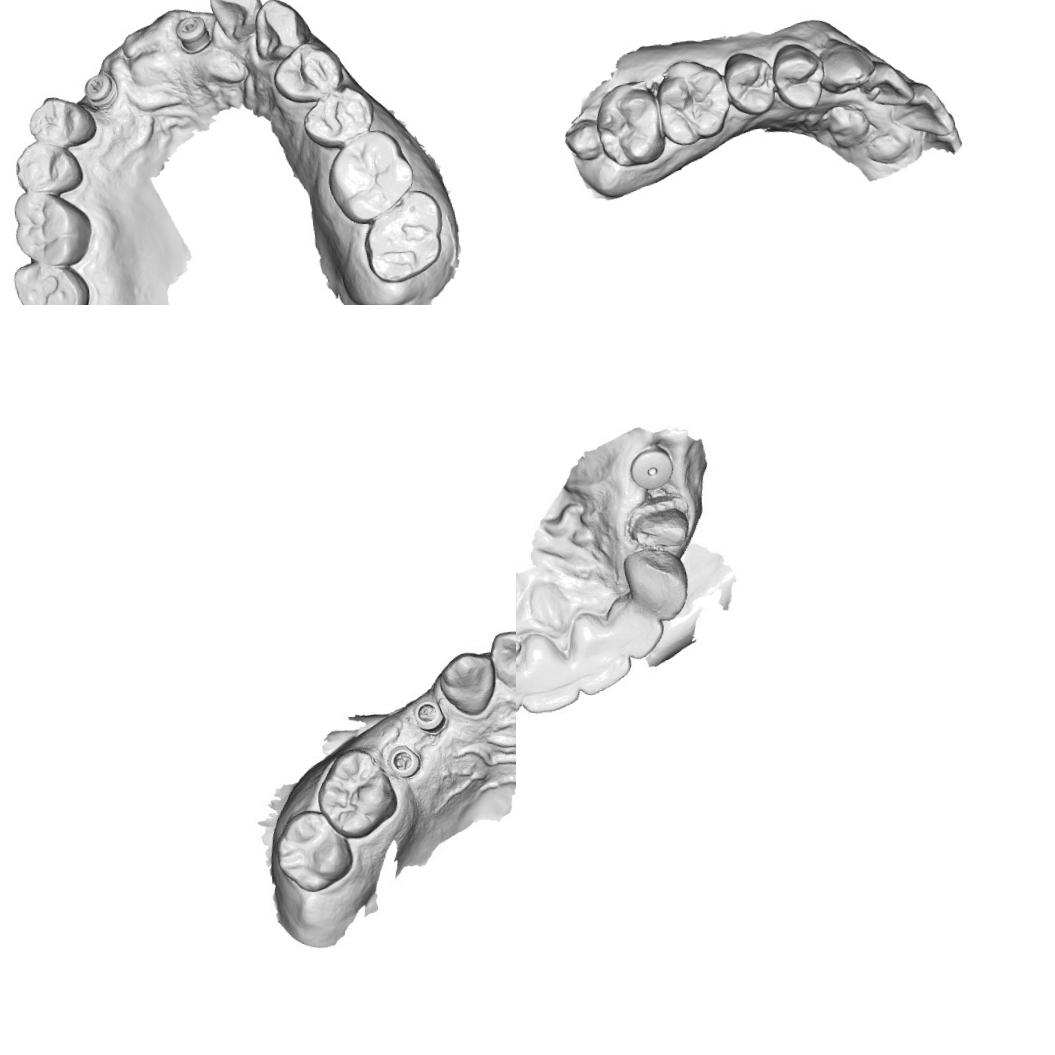canine: (620, 546, 693, 626), (438, 651, 504, 719), (248, 0, 311, 65), (818, 37, 876, 99)
crown: (627, 496, 695, 554)
implant: (626, 442, 677, 493), (383, 740, 420, 781), (411, 694, 449, 732)
implant_minus: (168, 11, 212, 54), (77, 70, 122, 108)
incisor: (564, 610, 634, 700), (516, 632, 585, 716), (602, 590, 668, 665), (890, 77, 952, 142), (858, 59, 916, 119), (202, 0, 263, 44), (492, 631, 516, 688)
molar: (322, 124, 419, 228), (358, 186, 450, 286), (651, 56, 732, 148), (590, 76, 666, 171), (272, 810, 352, 898), (11, 187, 94, 267), (316, 750, 396, 829), (9, 255, 93, 305)
premolar: (298, 80, 378, 151), (268, 36, 348, 107), (7, 138, 85, 198), (24, 91, 100, 151), (768, 40, 829, 114), (720, 47, 781, 119)
